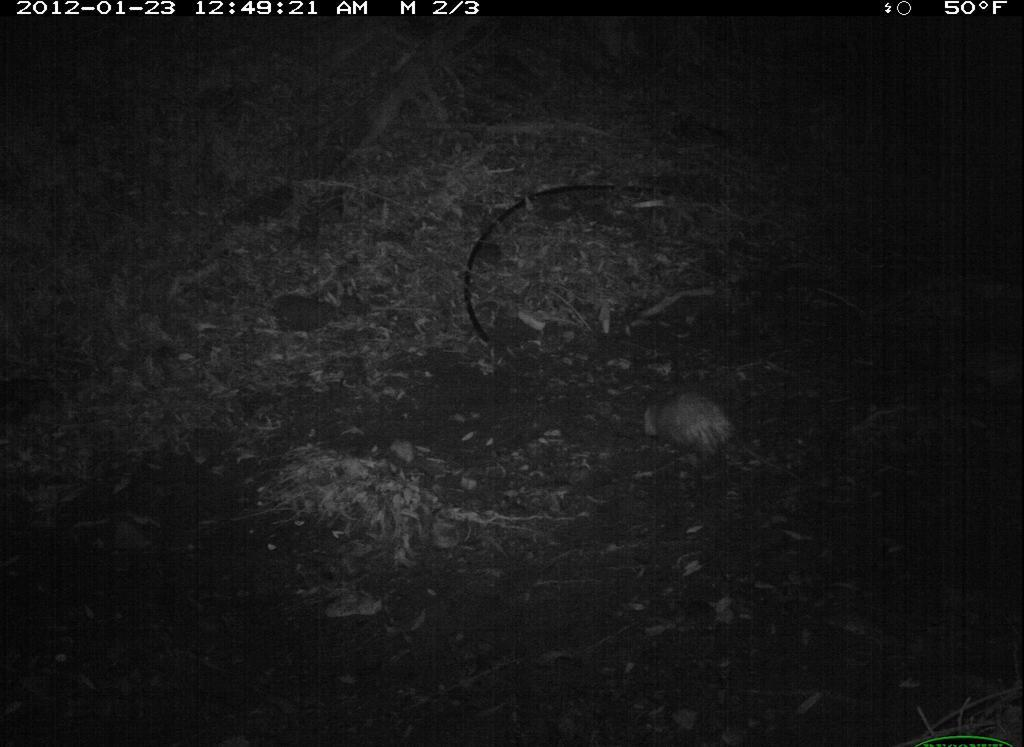opossum: (633, 379, 802, 500)
